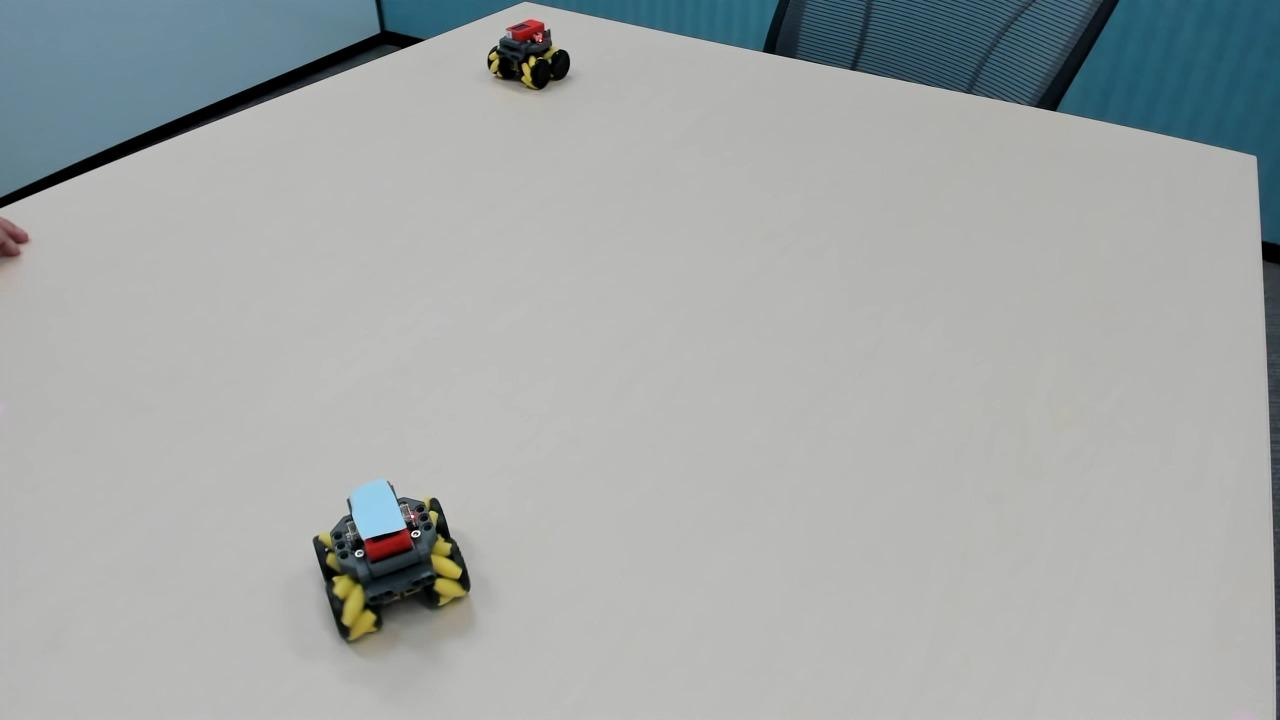B-Robot: (299, 479, 486, 653)
R-Robot: (478, 9, 576, 104)
